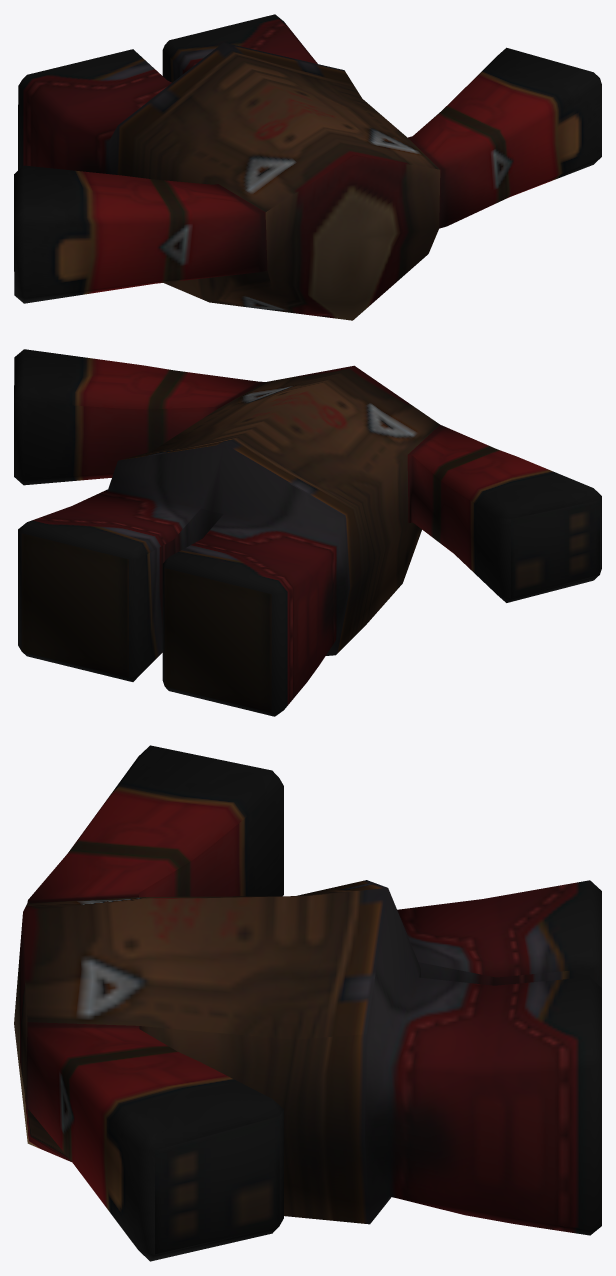
The model's file is Avatar_Cowboy_H_Body_3_a7b97efb__Avatar_Cowboy_B_f976495f_c1f257.obj.
The picture shows the model from 3 angles, top to bottom: view 1: azimuth 30°, elevation 25°; view 2: azimuth 150°, elevation 25°; view 3: azimuth 270°, elevation 25°; orthographic projection. The views are drawn at different scales.
Bounding box in the file's own units: 1.41 × 0.504 × 0.882.
1 material, 1 textured.
